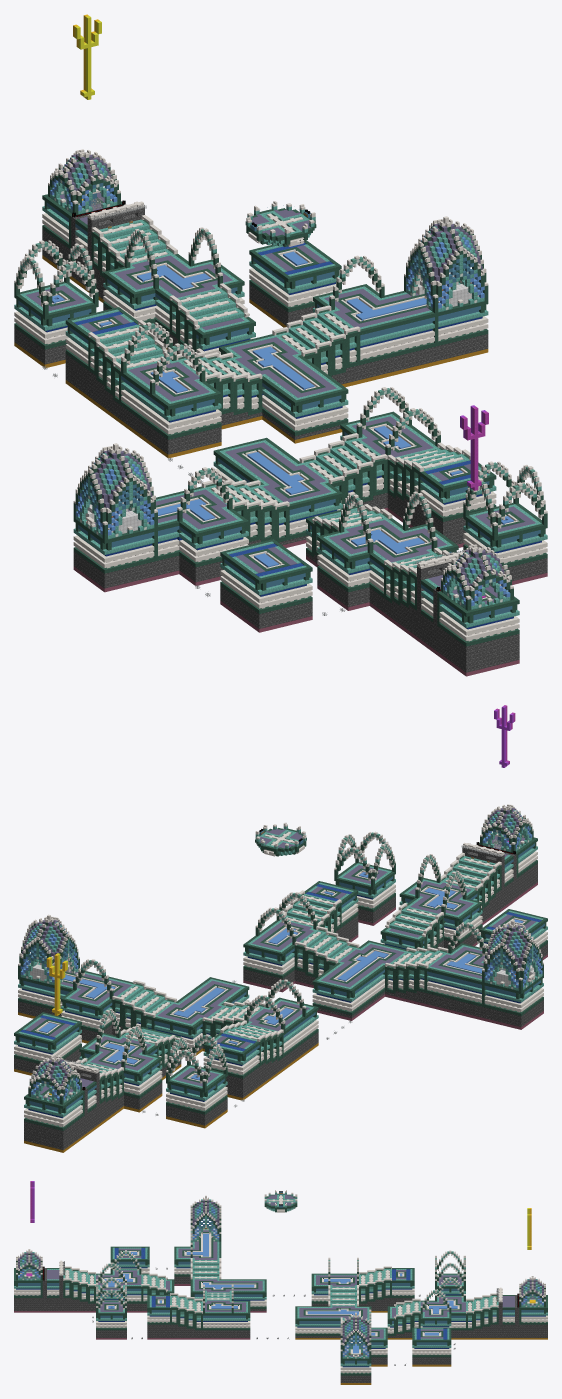
File: minecraft.obj
The picture shows the model from 3 angles, top to bottom: view 1: azimuth 30°, elevation 25°; view 2: azimuth 150°, elevation 25°; view 3: azimuth 270°, elevation 25°; orthographic projection. The views are drawn at different scales.
Bounding box in the file's own units: 150 × 67 × 260.
